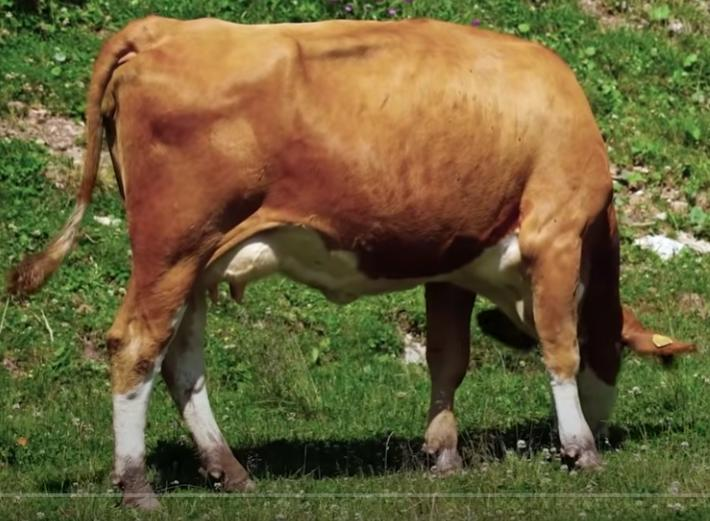cow: (94, 20, 690, 515)
